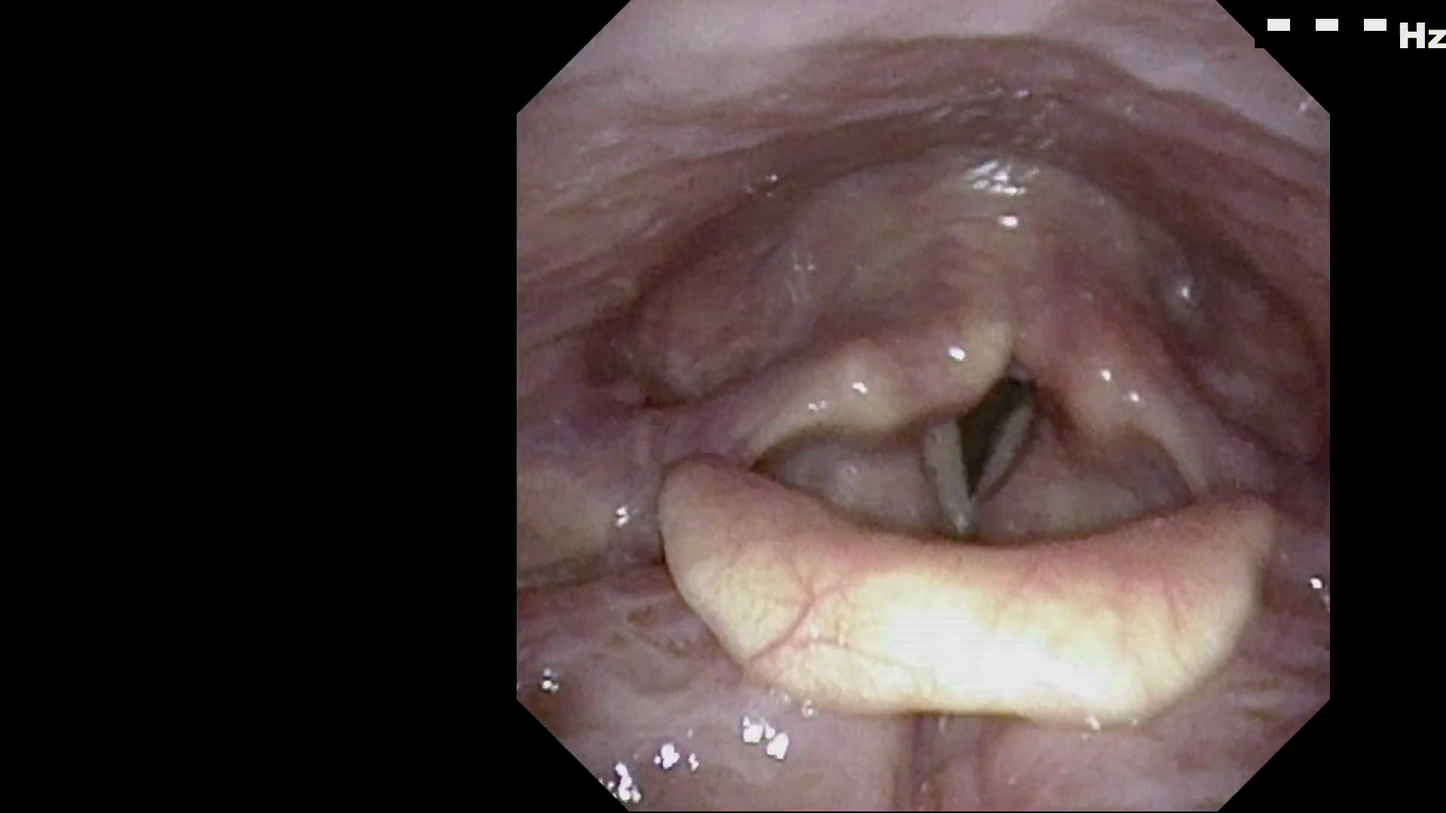epiglottis: (672, 449, 1272, 727)
trachea: (896, 350, 1062, 522)
